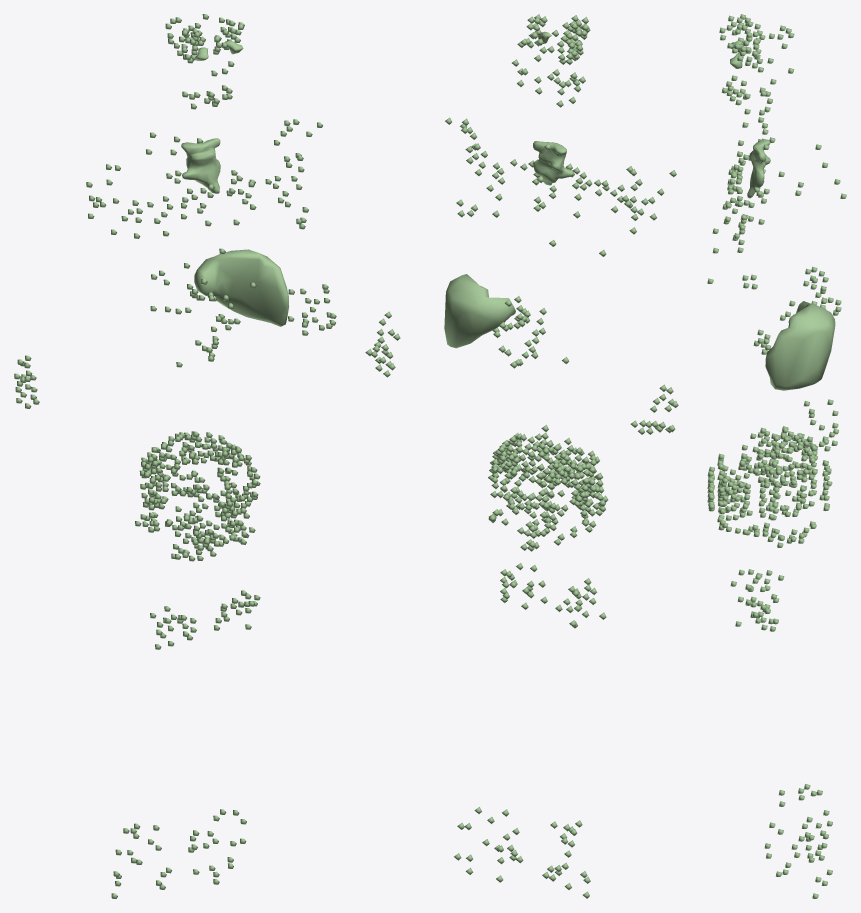
The model's file is icrp_adult_female.lymphatic.LOD2.glb.
3 views of the same model, side by side, from view 1: azimuth 30°, elevation 25°; view 2: azimuth 150°, elevation 25°; view 3: azimuth 270°, elevation 25° (orthographic). The views are drawn at different scales.
Parts seen in each view (by area): view 1: ICRP.ADULT.FEMALE.LYMPHATIC.LYMPHATIC_NODES_TRUNK, ICRP.ADULT.FEMALE.LYMPHATIC.SPLEEN, ICRP.ADULT.FEMALE.LYMPHATIC.LYMPHATIC_NODES_THORACIC, ICRP.ADULT.FEMALE.LYMPHATIC.THYMUS, ICRP.ADULT.FEMALE.LYMPHATIC.LYMPHATIC_NODES_ET, ICRP.ADULT.FEMALE.LYMPHATIC.LYMPHATIC_NODES_LEGS, ICRP.ADULT.FEMALE.LYMPHATIC.LYMPHATIC_NODES_ARMS; view 2: ICRP.ADULT.FEMALE.LYMPHATIC.LYMPHATIC_NODES_TRUNK, ICRP.ADULT.FEMALE.LYMPHATIC.SPLEEN, ICRP.ADULT.FEMALE.LYMPHATIC.LYMPHATIC_NODES_ET, ICRP.ADULT.FEMALE.LYMPHATIC.LYMPHATIC_NODES_THORACIC, ICRP.ADULT.FEMALE.LYMPHATIC.LYMPHATIC_NODES_LEGS, ICRP.ADULT.FEMALE.LYMPHATIC.LYMPHATIC_NODES_ARMS, ICRP.ADULT.FEMALE.LYMPHATIC.THYMUS, ICRP.ADULT.FEMALE.LYMPHATIC.LYMPHATIC_NODES_HEAD; view 3: ICRP.ADULT.FEMALE.LYMPHATIC.LYMPHATIC_NODES_TRUNK, ICRP.ADULT.FEMALE.LYMPHATIC.SPLEEN, ICRP.ADULT.FEMALE.LYMPHATIC.LYMPHATIC_NODES_ET, ICRP.ADULT.FEMALE.LYMPHATIC.LYMPHATIC_NODES_LEGS, ICRP.ADULT.FEMALE.LYMPHATIC.LYMPHATIC_NODES_THORACIC, ICRP.ADULT.FEMALE.LYMPHATIC.LYMPHATIC_NODES_ARMS, ICRP.ADULT.FEMALE.LYMPHATIC.THYMUS, ICRP.ADULT.FEMALE.LYMPHATIC.LYMPHATIC_NODES_HEAD.
Part boxes in pixels (x1,y1,x2,y2): ICRP.ADULT.FEMALE.LYMPHATIC.LYMPHATIC_NODES_TRUNK: [86, 119, 322, 649]; ICRP.ADULT.FEMALE.LYMPHATIC.SPLEEN: [194, 249, 289, 326]; ICRP.ADULT.FEMALE.LYMPHATIC.LYMPHATIC_NODES_THORACIC: [146, 132, 243, 367]; ICRP.ADULT.FEMALE.LYMPHATIC.THYMUS: [181, 138, 220, 193]; ICRP.ADULT.FEMALE.LYMPHATIC.LYMPHATIC_NODES_ET: [165, 14, 244, 63]; ICRP.ADULT.FEMALE.LYMPHATIC.LYMPHATIC_NODES_LEGS: [111, 809, 246, 898]; ICRP.ADULT.FEMALE.LYMPHATIC.LYMPHATIC_NODES_ARMS: [14, 284, 336, 408]; ICRP.ADULT.FEMALE.LYMPHATIC.LYMPHATIC_NODES_TRUNK: [445, 117, 676, 628]; ICRP.ADULT.FEMALE.LYMPHATIC.SPLEEN: [444, 274, 515, 348]; ICRP.ADULT.FEMALE.LYMPHATIC.LYMPHATIC_NODES_ET: [517, 14, 590, 64]; ICRP.ADULT.FEMALE.LYMPHATIC.LYMPHATIC_NODES_THORACIC: [492, 143, 586, 368]; ICRP.ADULT.FEMALE.LYMPHATIC.LYMPHATIC_NODES_LEGS: [454, 807, 590, 898]; ICRP.ADULT.FEMALE.LYMPHATIC.LYMPHATIC_NODES_ARMS: [365, 311, 678, 434]; ICRP.ADULT.FEMALE.LYMPHATIC.THYMUS: [533, 141, 573, 185]; ICRP.ADULT.FEMALE.LYMPHATIC.LYMPHATIC_NODES_HEAD: [512, 59, 585, 107]; ICRP.ADULT.FEMALE.LYMPHATIC.LYMPHATIC_NODES_TRUNK: [707, 94, 832, 631]; ICRP.ADULT.FEMALE.LYMPHATIC.SPLEEN: [765, 301, 835, 390]; ICRP.ADULT.FEMALE.LYMPHATIC.LYMPHATIC_NODES_ET: [719, 14, 794, 72]; ICRP.ADULT.FEMALE.LYMPHATIC.LYMPHATIC_NODES_LEGS: [764, 784, 832, 898]; ICRP.ADULT.FEMALE.LYMPHATIC.LYMPHATIC_NODES_THORACIC: [728, 144, 846, 354]; ICRP.ADULT.FEMALE.LYMPHATIC.LYMPHATIC_NODES_ARMS: [803, 266, 841, 451]; ICRP.ADULT.FEMALE.LYMPHATIC.THYMUS: [747, 139, 770, 198]; ICRP.ADULT.FEMALE.LYMPHATIC.LYMPHATIC_NODES_HEAD: [721, 68, 794, 114].
Bounding box in the file's own units: 0.4042 × 1.06 × 0.1582.
